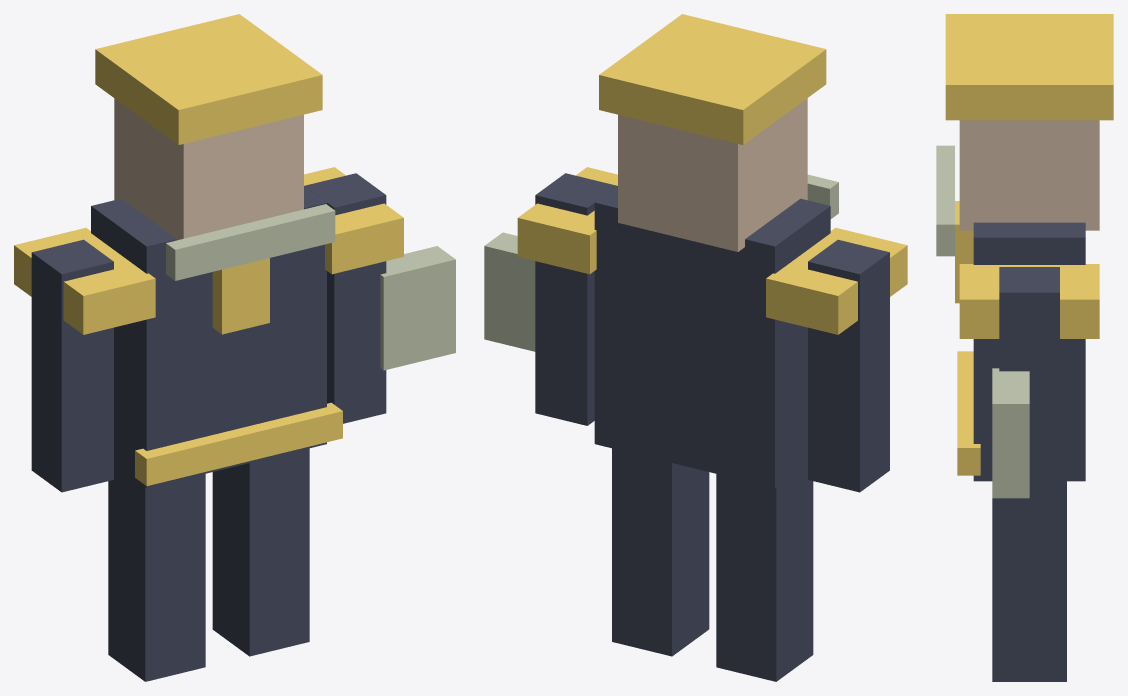
Rendered from 01_korra_ironwake_warden_near_prize.glb.
3 renders of one model, left to right at view 1: azimuth 30°, elevation 25°; view 2: azimuth 150°, elevation 25°; view 3: azimuth 270°, elevation 25°, orthographic.
Visible parts, largest first — view 1: Korra Ironwake, Warden near Prize; view 2: Korra Ironwake, Warden near Prize; view 3: Korra Ironwake, Warden near Prize.
Part boxes in pixels (<box>): Korra Ironwake, Warden near Prize: <box>14,14,455,681</box>; Korra Ironwake, Warden near Prize: <box>484,14,907,681</box>; Korra Ironwake, Warden near Prize: <box>936,14,1113,681</box>.
Size of the model in its own units: 1.02 by 1.46 by 0.3974.
